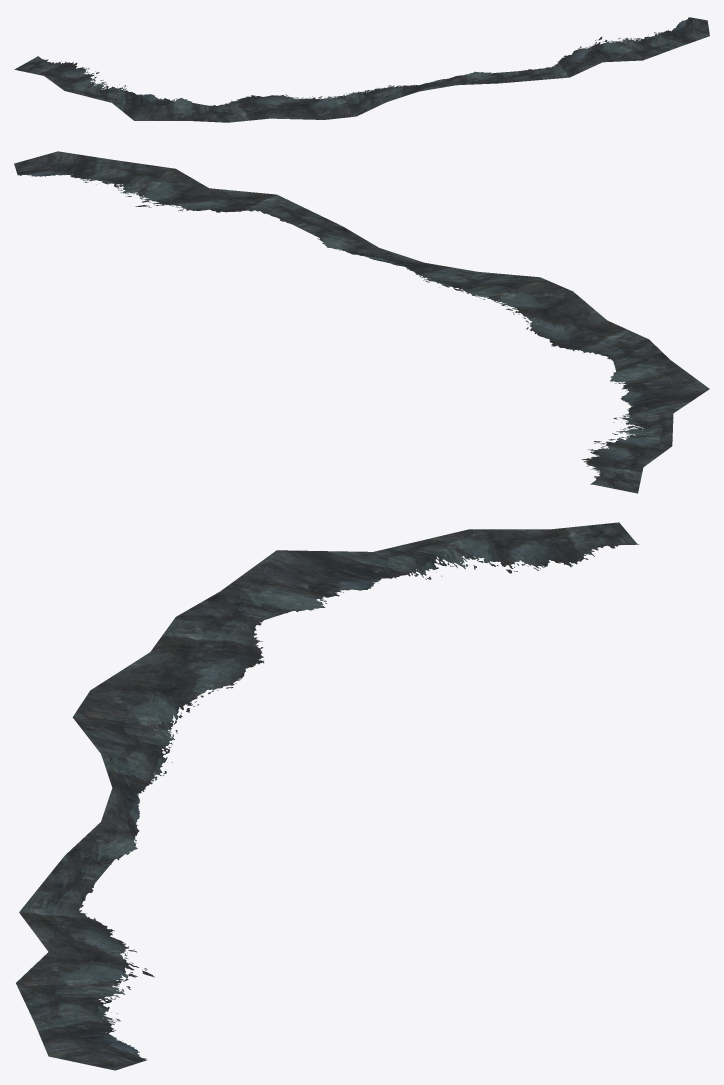
Rendered from blend_weeds18.fbx.
The picture shows the model from 3 angles, top to bottom: view 1: azimuth 30°, elevation 25°; view 2: azimuth 150°, elevation 25°; view 3: azimuth 270°, elevation 25°; orthographic projection. The views are drawn at different scales.
Parts seen in each view (by area): view 1: New_terrain/Material_#238682132; view 2: New_terrain/Material_#238682132; view 3: New_terrain/Material_#238682132.
Part boxes in pixels (bbox=[...]): New_terrain/Material_#238682132: bbox=[14, 17, 709, 122]; New_terrain/Material_#238682132: bbox=[14, 151, 709, 493]; New_terrain/Material_#238682132: bbox=[16, 522, 638, 1070].
Bounding box in the file's own units: 38.3 × 0.1903 × 20.23.
